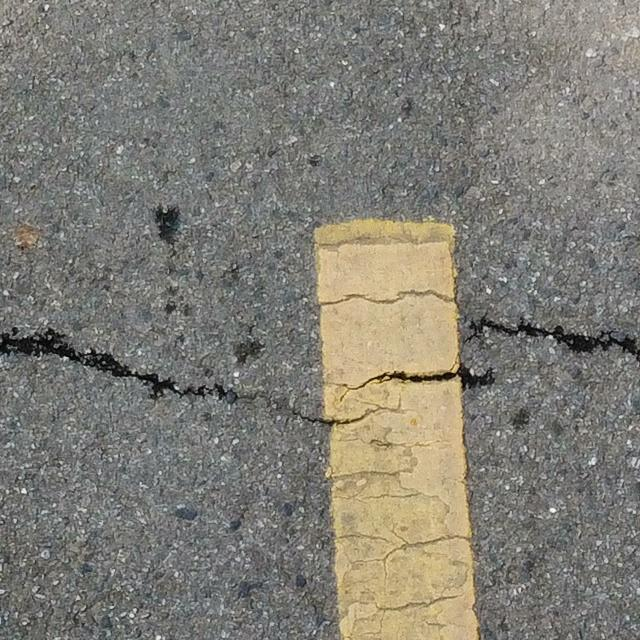TransverseCrack: (312, 291, 640, 359), (1, 326, 242, 403), (343, 361, 495, 392), (294, 409, 380, 427)
